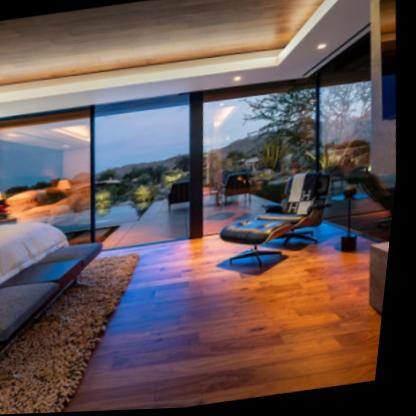Carpet: (0, 255, 144, 415)
Wooden floor: (104, 270, 382, 409)
